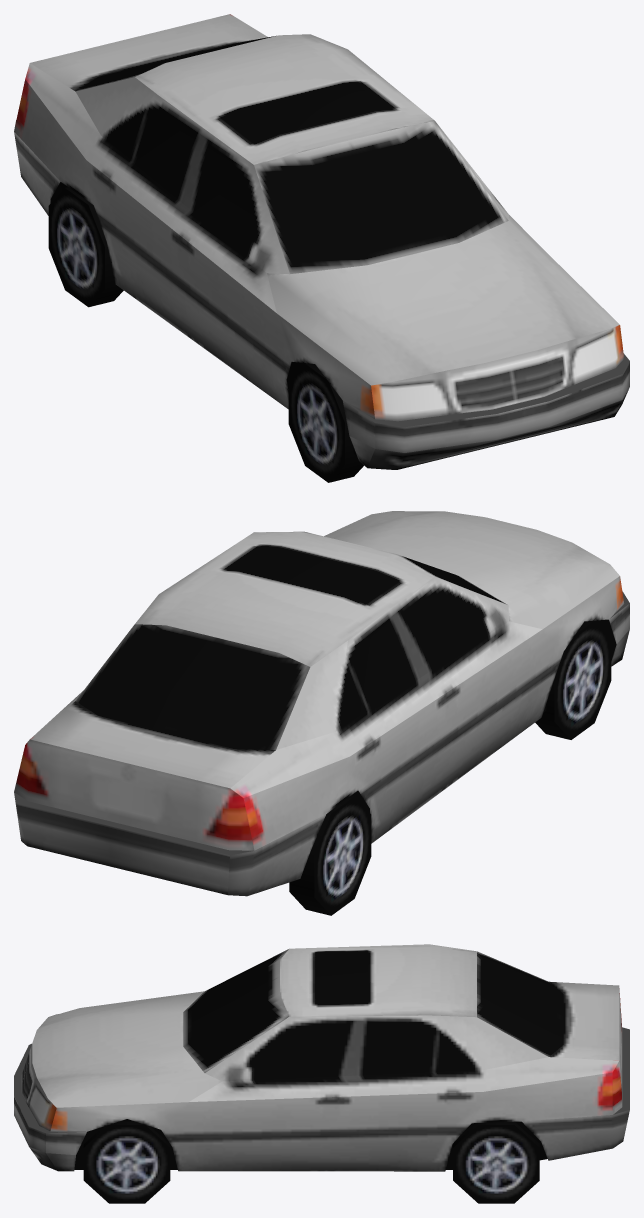
The model's file is Car_MercedesC.fbx.
3 renders of one model, top to bottom at view 1: azimuth 30°, elevation 25°; view 2: azimuth 150°, elevation 25°; view 3: azimuth 270°, elevation 25°, orthographic. The views are drawn at different scales.
Visible parts, largest first — view 1: Car_MercedesC; view 2: Car_MercedesC; view 3: Car_MercedesC.
Part boxes in pixels (x1=…): Car_MercedesC: x1=14, y1=14, x2=629, y2=482; Car_MercedesC: x1=14, y1=511, x2=629, y2=915; Car_MercedesC: x1=14, y1=944, x2=629, y2=1203.
Bounding box in the file's own units: 1.75 × 1.42 × 4.45.
